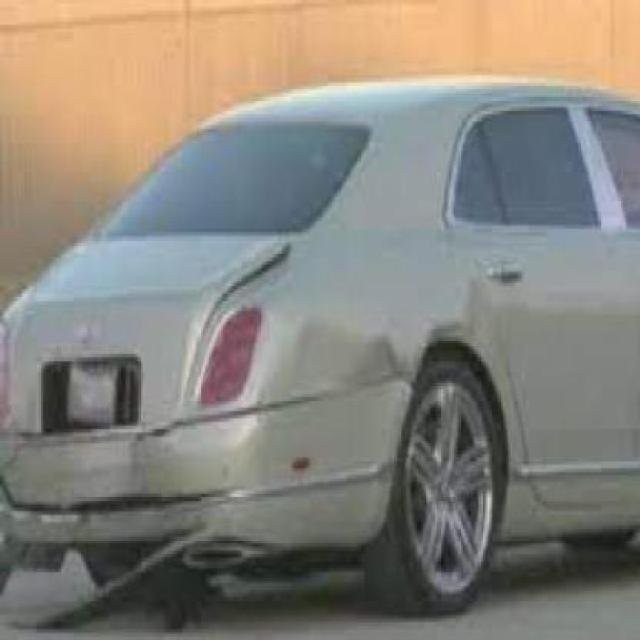quaterpanel-dent: (267, 274, 490, 398)
